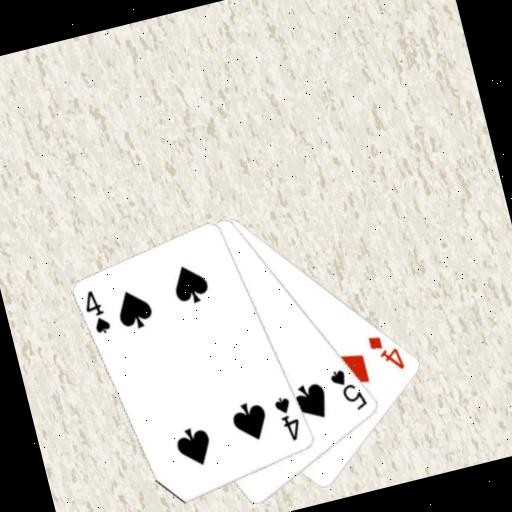4D: (364, 327, 408, 378)
4S: (270, 391, 306, 446), (79, 285, 114, 339)
5S: (325, 361, 371, 417)
